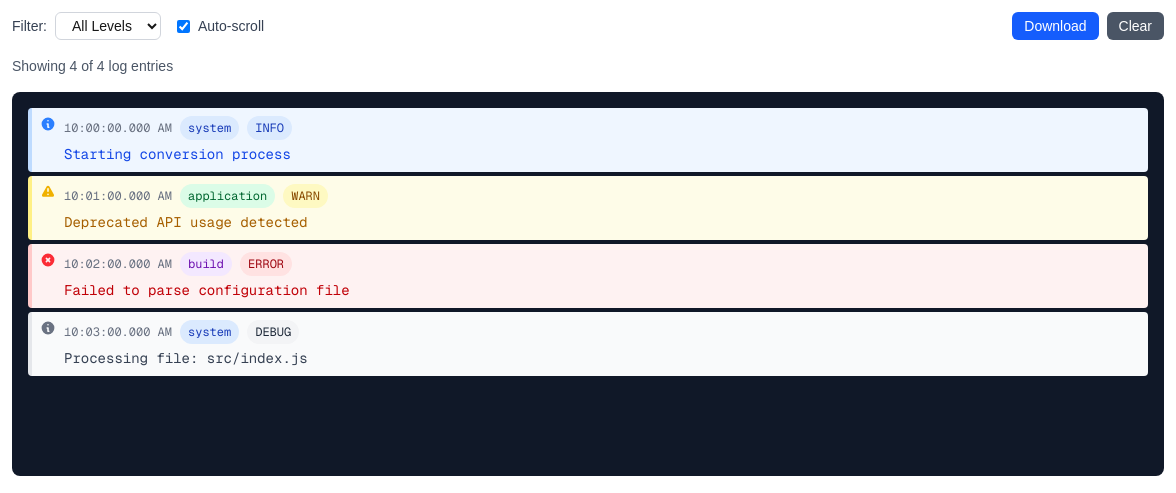
ConversionLogs › shows debug logs when filtered
Select "Debug" in the dropdown labelled "Filter:" at (108, 26), box [55, 12, 161, 40]
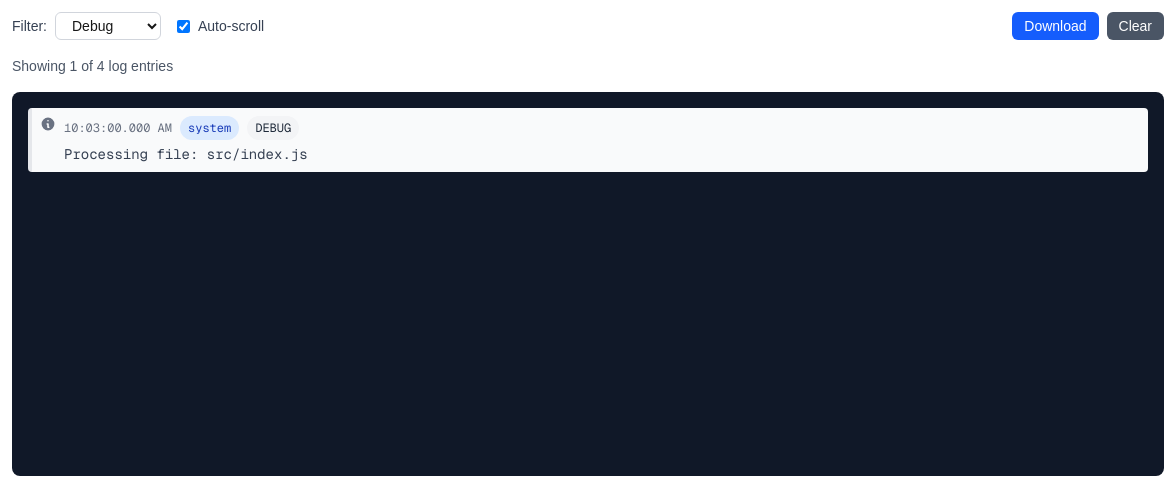
Expected: the text "Processing file: src/index.js" is shown, [64, 145, 308, 163]
Now the text "Showing 1 of 4 log entries" is shown, box [12, 58, 173, 74]
